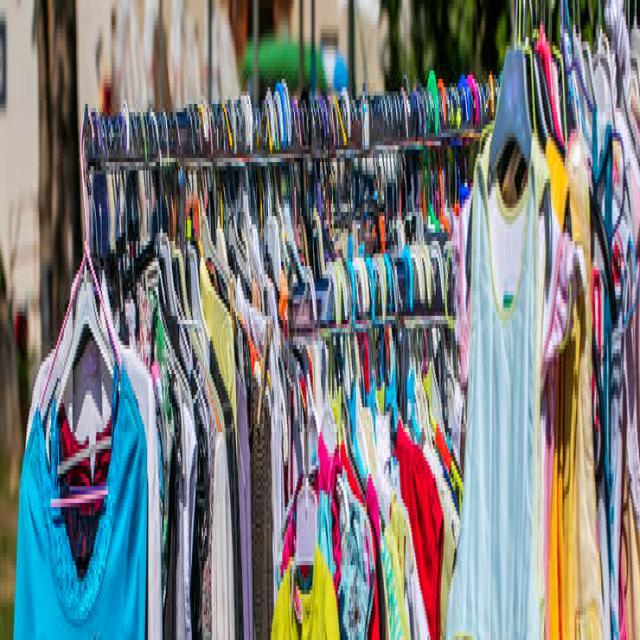clothes: (430, 16, 640, 640)
